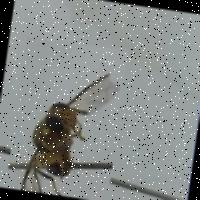Oriental-fruit-fly: (4, 35, 127, 200)
